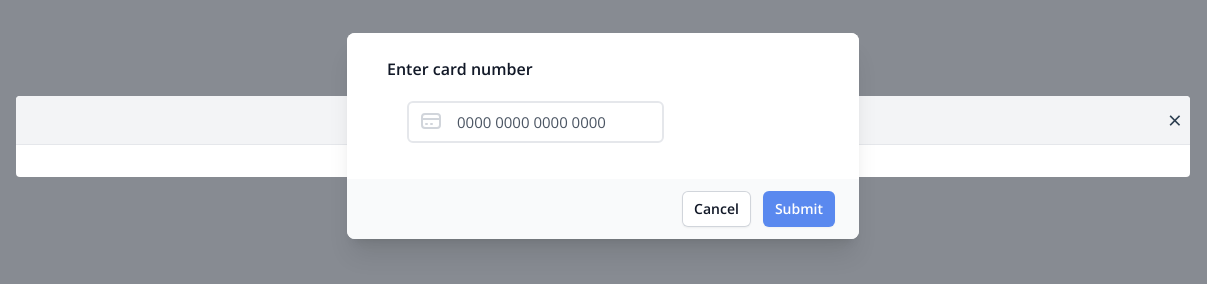
it: AddCardPopup › Should render error message when user input invalid card number format
Type "2213354212353asdc" into the field with placeholder "0000 0000 0000 0000" at (536, 122), box [407,101,664,143]
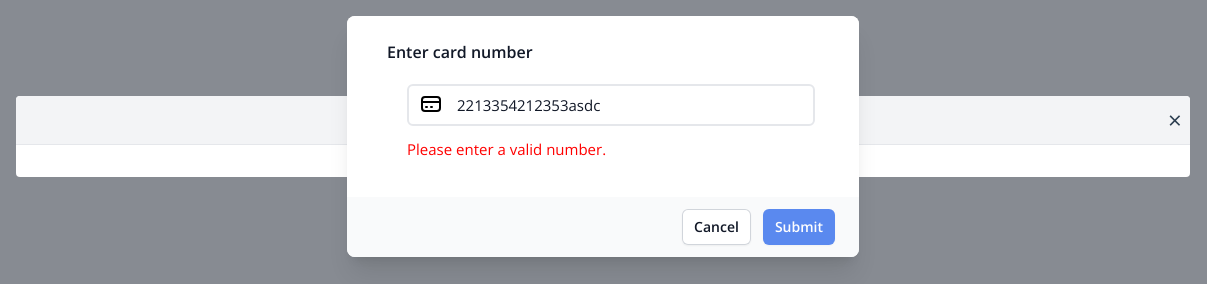
Now the text "Please enter a valid number." is shown, box [407,138,606,160]
Now the text with class "error-message" reads "Please enter a valid number.", box [407,139,606,159]
